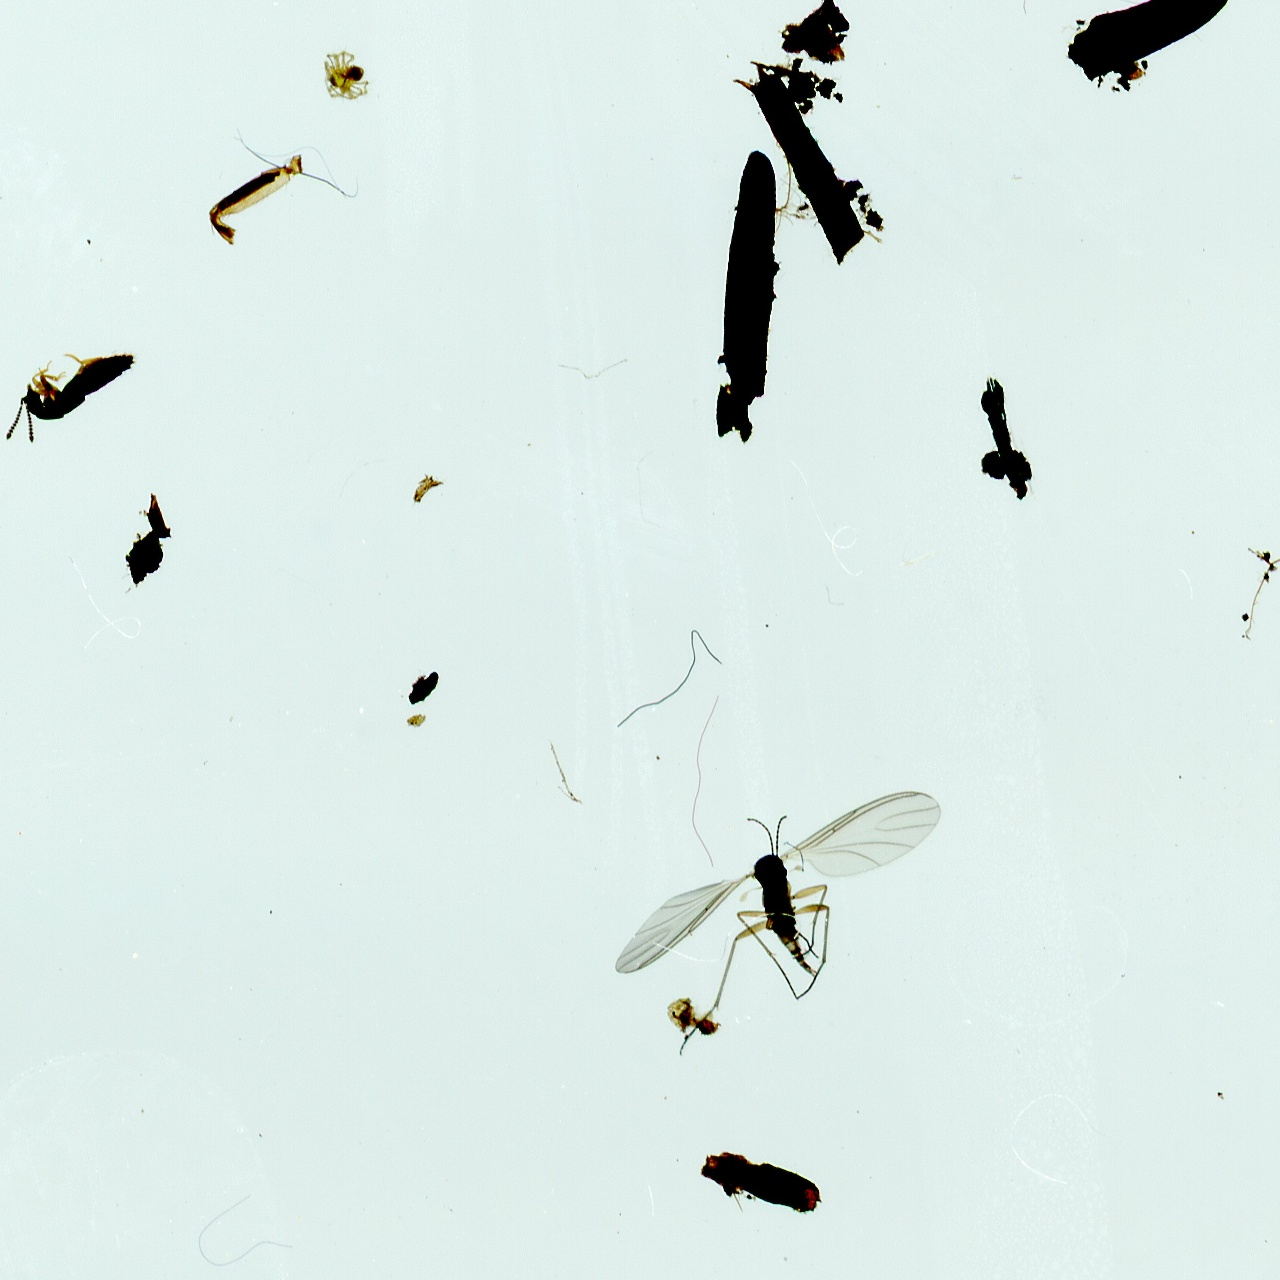arthropod: (572, 734, 999, 1074), (0, 314, 155, 459), (316, 47, 375, 104)
